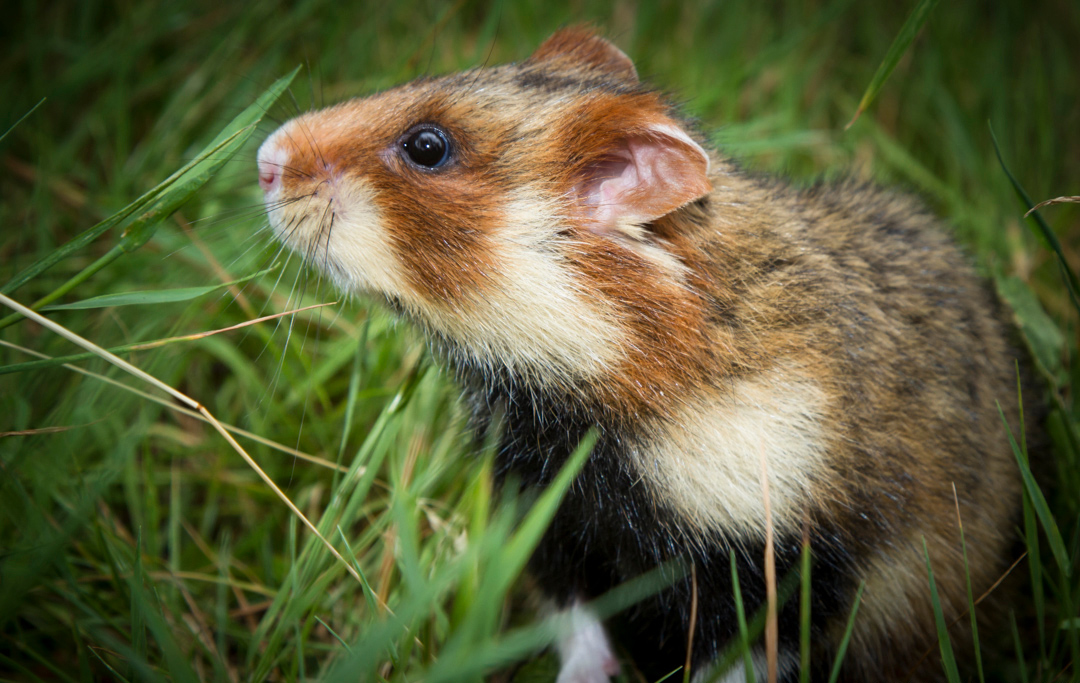hamester: (232, 66, 811, 419)
